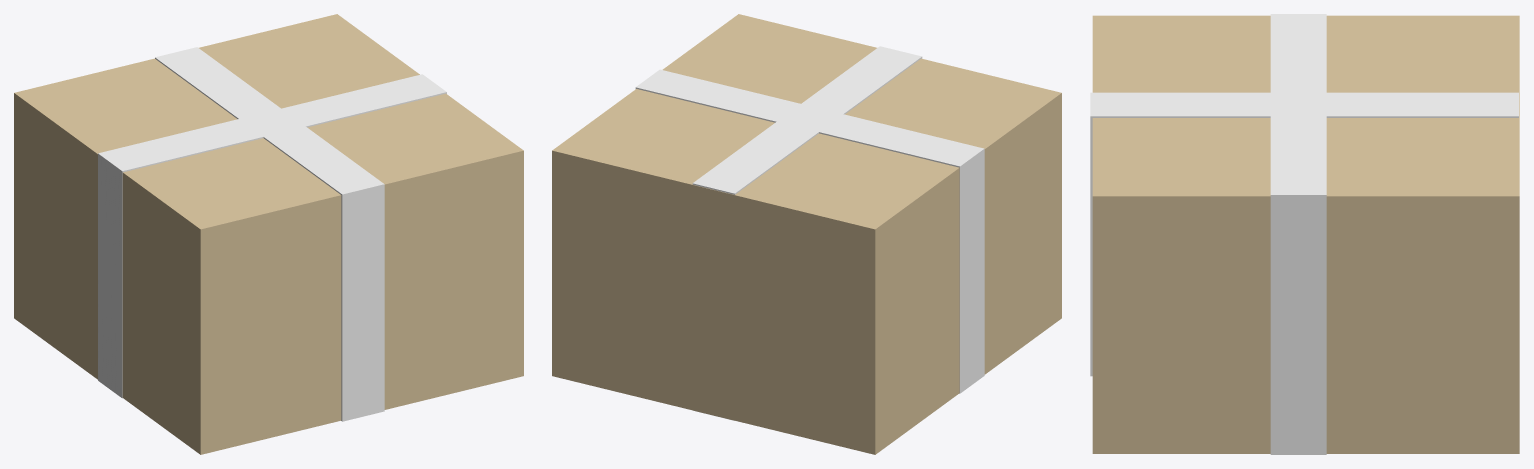
3 views of the same model, side by side, from view 1: azimuth 30°, elevation 25°; view 2: azimuth 150°, elevation 25°; view 3: azimuth 270°, elevation 25° (orthographic). The views are drawn at different scales.
Parts seen in each view (by area): view 1: Box66787332, Box66787336, Box66787335; view 2: Box66787332, Box66787335, Box66787336; view 3: Box66787332, Box66787335, Box66787336.
Boxes of the visible parts, box(x1,y1,x2,y2) form: Box66787332: box(14, 14, 523, 454); Box66787336: box(155, 47, 384, 421); Box66787335: box(98, 74, 446, 398); Box66787332: box(552, 14, 1061, 454); Box66787335: box(635, 69, 984, 393); Box66787336: box(692, 46, 922, 420); Box66787332: box(1092, 15, 1519, 453); Box66787335: box(1270, 14, 1326, 454); Box66787336: box(1090, 92, 1518, 376).
Size of the model in its own units: 0.2955 by 0.1977 by 0.2959.
